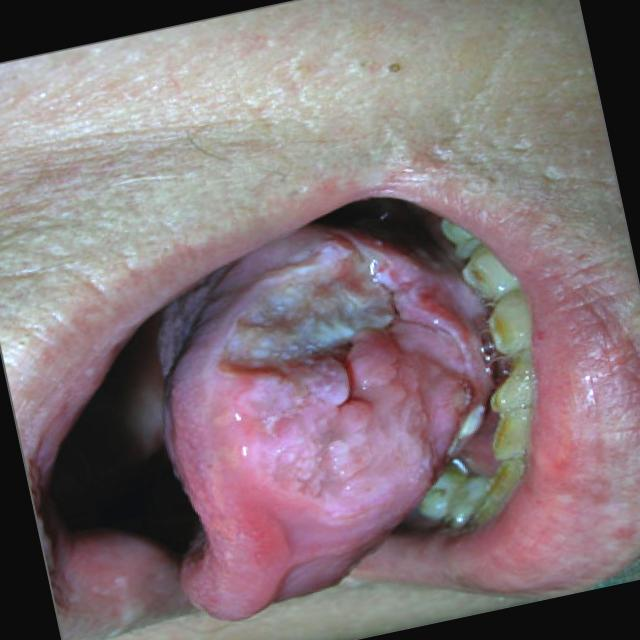Cancer: (156, 208, 548, 542)
